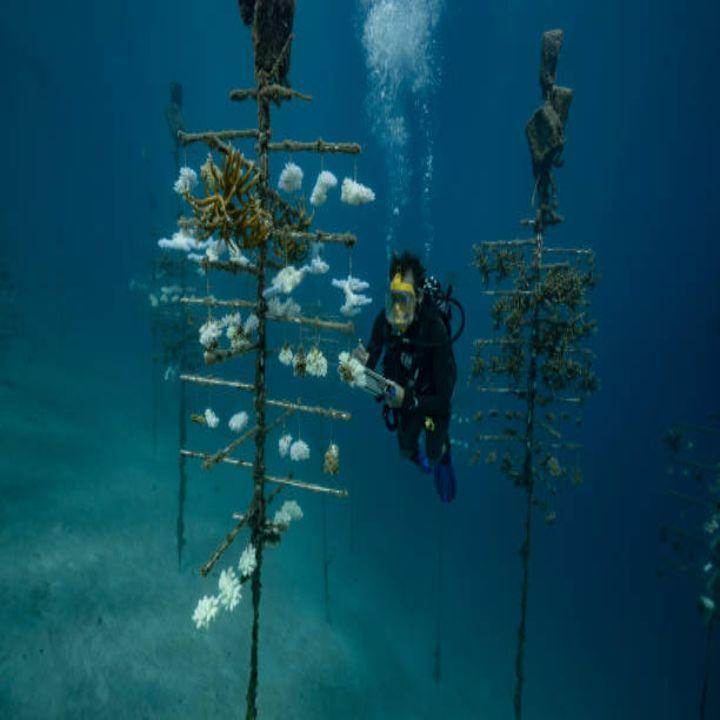Bleached disease: (156, 152, 374, 650)
